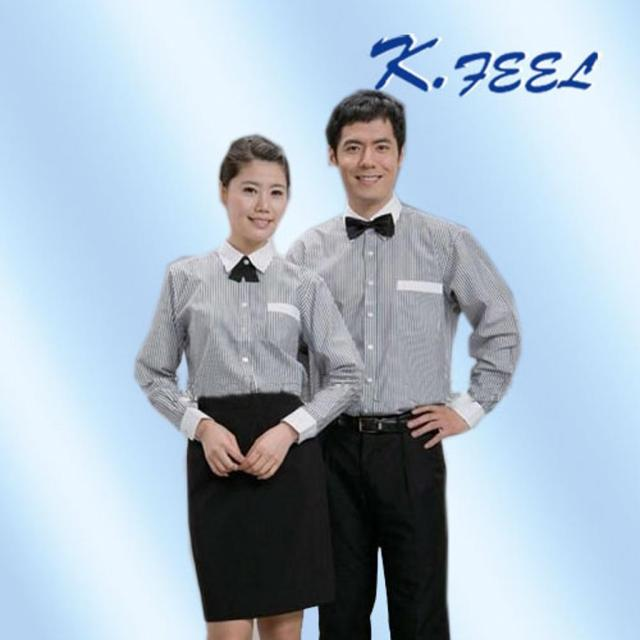nomask: (338, 106, 398, 199), (228, 155, 288, 244)
